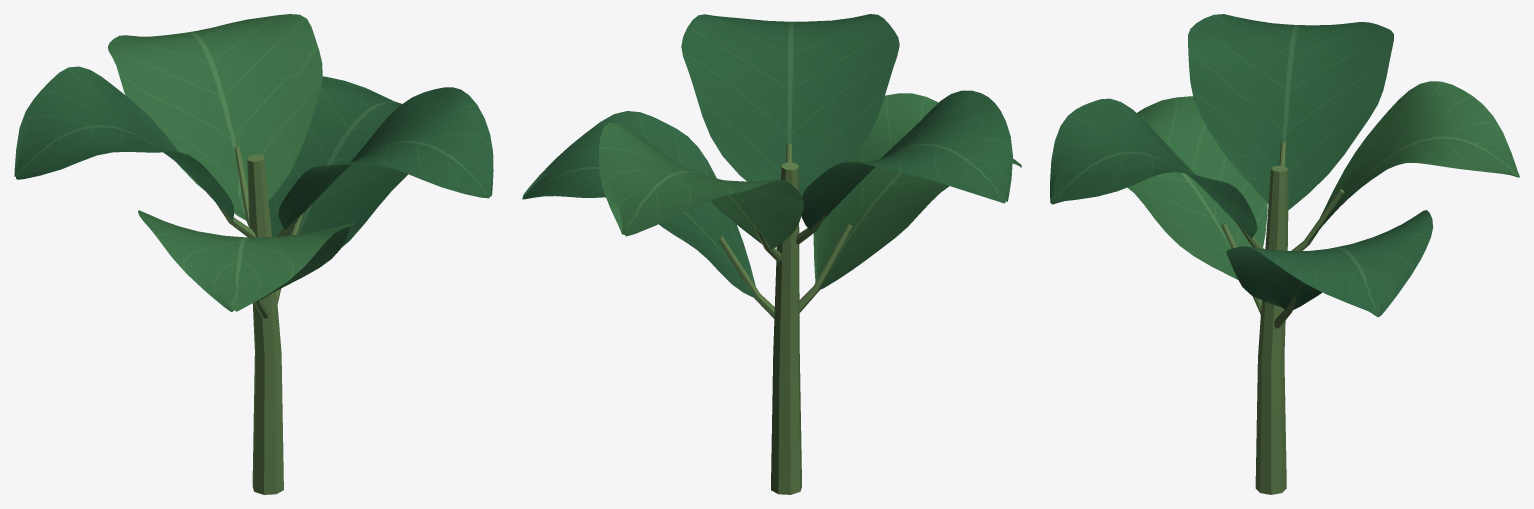
Rendered from horta_couve_realista.glb.
3 views of the same model, side by side, from view 1: azimuth 30°, elevation 25°; view 2: azimuth 150°, elevation 25°; view 3: azimuth 270°, elevation 25° (orthographic). The views are drawn at different scales.
Parts seen in each view (by area): view 1: Horta_Couve_Folhas_PBR; view 2: Horta_Couve_Folhas_PBR; view 3: Horta_Couve_Folhas_PBR.
Part boxes in pixels (<box>): Horta_Couve_Folhas_PBR: <box>14,14,493,494</box>; Horta_Couve_Folhas_PBR: <box>522,14,1021,494</box>; Horta_Couve_Folhas_PBR: <box>1050,14,1519,494</box>.
Size of the model in its own units: 0.4125 by 0.3591 by 0.3912.
1 material, 1 textured.
